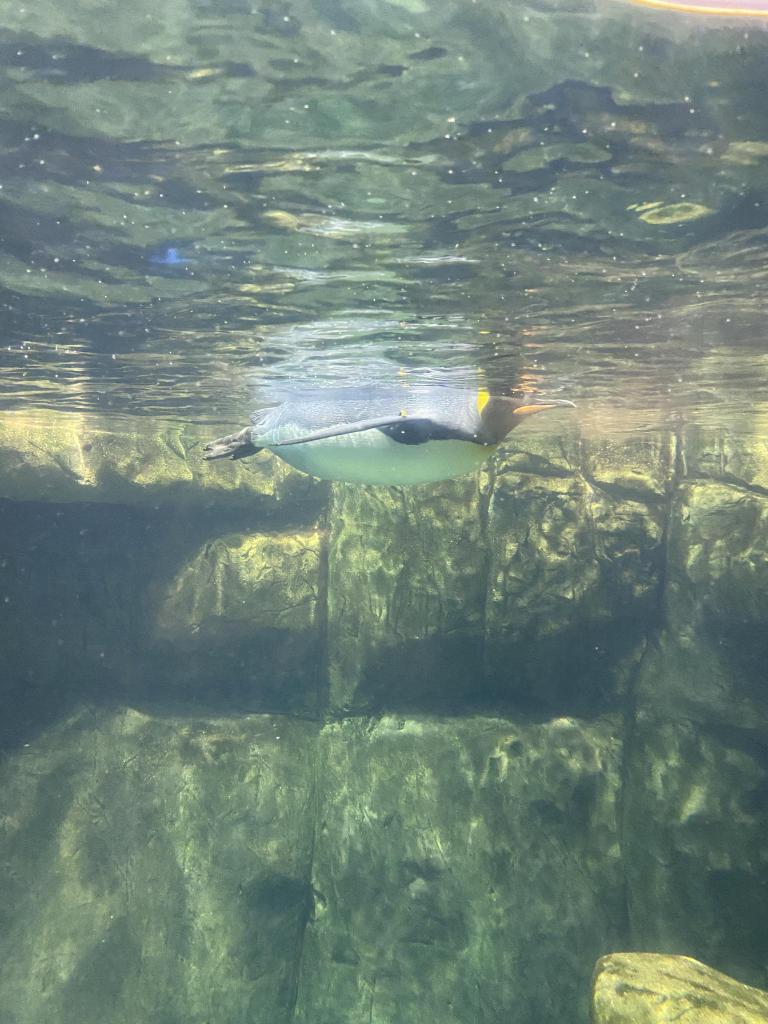penguin: (202, 386, 578, 486)
